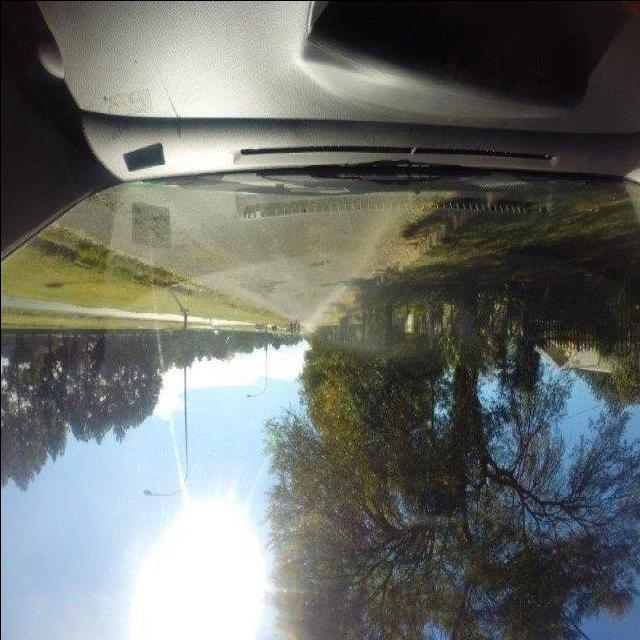lubang: (242, 270, 274, 302), (300, 256, 332, 274)
